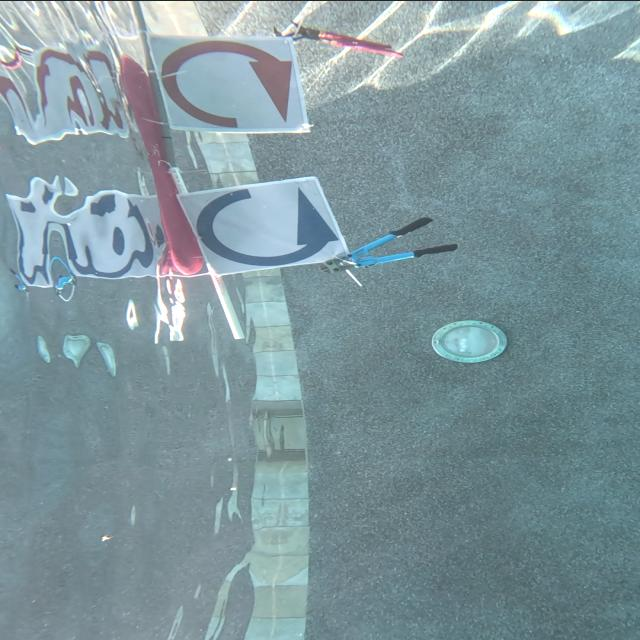blue_side: (192, 183, 342, 267)
red_side: (146, 41, 300, 128)
